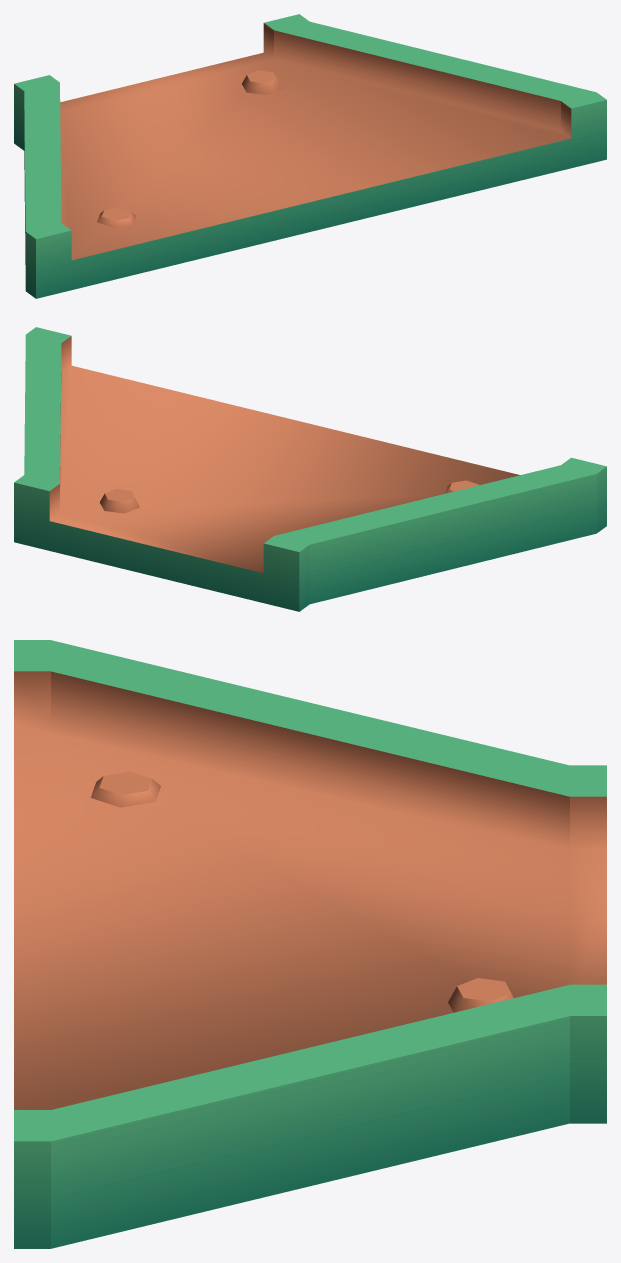
Rendered from tile-wide-transition.gltf.
3 renders of one model, top to bottom at view 1: azimuth 30°, elevation 25°; view 2: azimuth 150°, elevation 25°; view 3: azimuth 270°, elevation 25°, orthographic. The views are drawn at different scales.
Visible parts, largest first — view 1: tile-wide-transition; view 2: tile-wide-transition; view 3: tile-wide-transition.
Boxes of the visible parts, x1,y1,x2,y2 form: tile-wide-transition: [14, 14, 606, 298]; tile-wide-transition: [14, 327, 606, 611]; tile-wide-transition: [14, 640, 606, 1248].
Size of the model in its own units: 2 by 0.2 by 1.
1 material, 1 textured.
